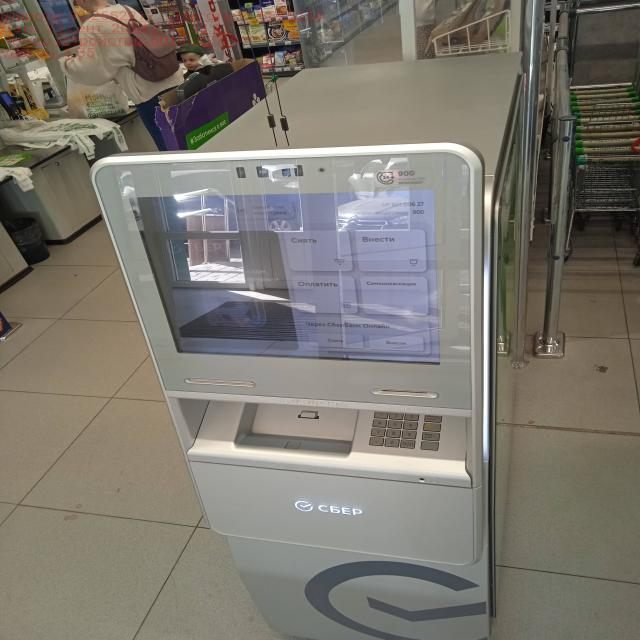bank: (90, 49, 536, 640)
